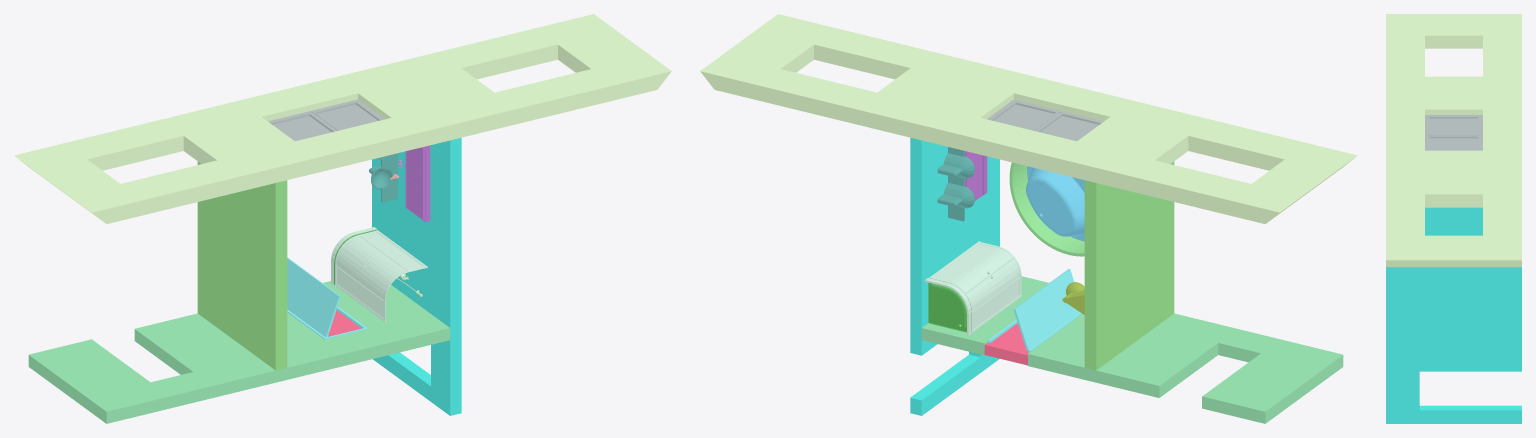
Rendered from space1.gltf.
3 views of the same model, side by side, from view 1: azimuth 30°, elevation 25°; view 2: azimuth 150°, elevation 25°; view 3: azimuth 270°, elevation 25° (orthographic). The views are drawn at different scales.
Bounding box in the file's own units: 600 × 288 × 140.
